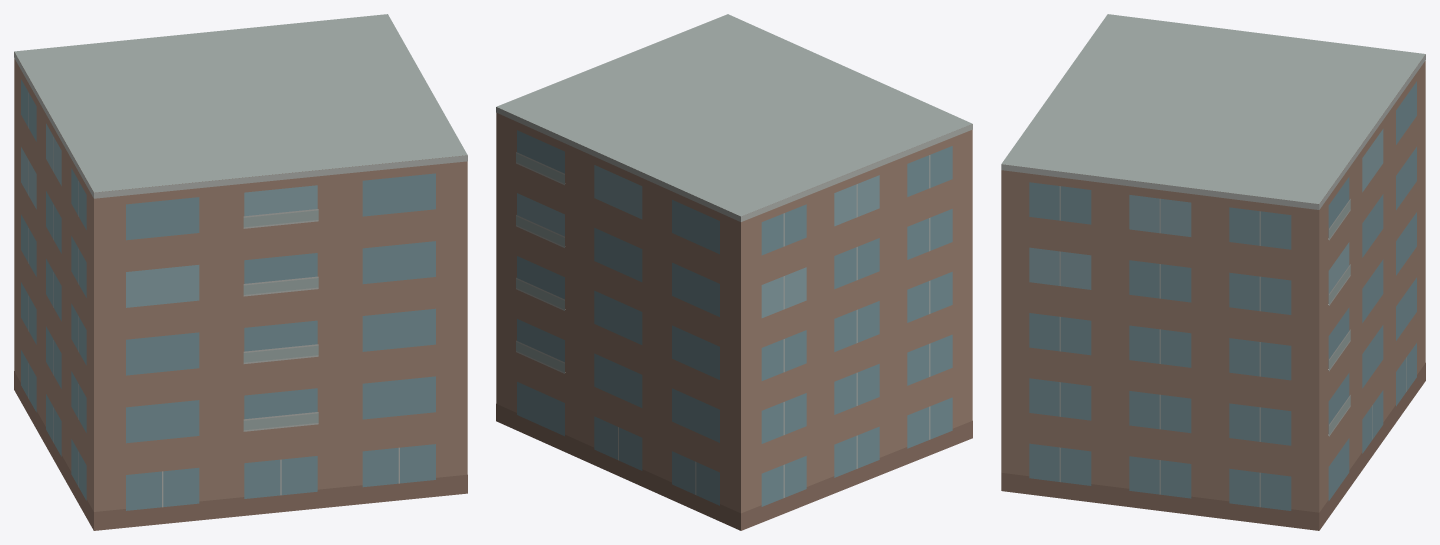
The model's file is survey-upis-32874211.glb.
3 renders of one model, left to right at view 1: azimuth 30°, elevation 25°; view 2: azimuth 150°, elevation 25°; view 3: azimuth 270°, elevation 25°, orthographic. The views are drawn at different scales.
Parts seen in each view (by area): view 1: survey-upis-32874211.tmp; view 2: survey-upis-32874211.tmp; view 3: survey-upis-32874211.tmp.
Boxes of the visible parts, <box> form: survey-upis-32874211.tmp: <box>14,14,467,530</box>; survey-upis-32874211.tmp: <box>496,14,972,530</box>; survey-upis-32874211.tmp: <box>1001,14,1425,530</box>.
Size of the model in its own units: 16.73 by 13.4 by 15.79.
